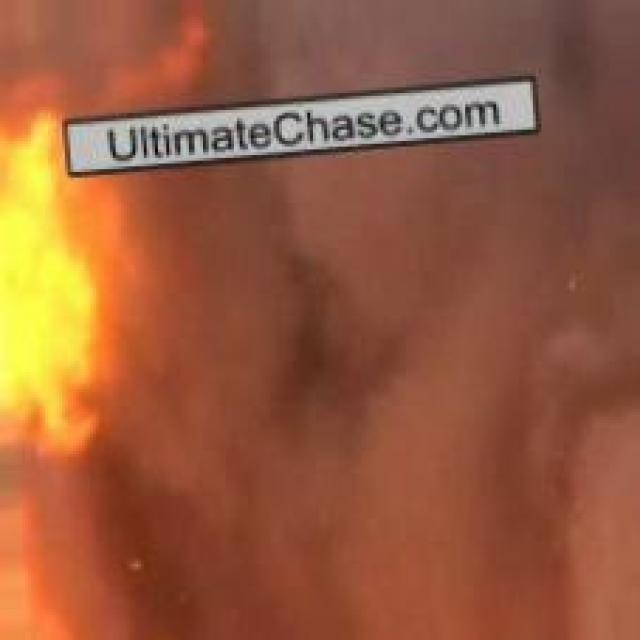fire: (0, 83, 113, 464)
smoke: (155, 11, 602, 618)
